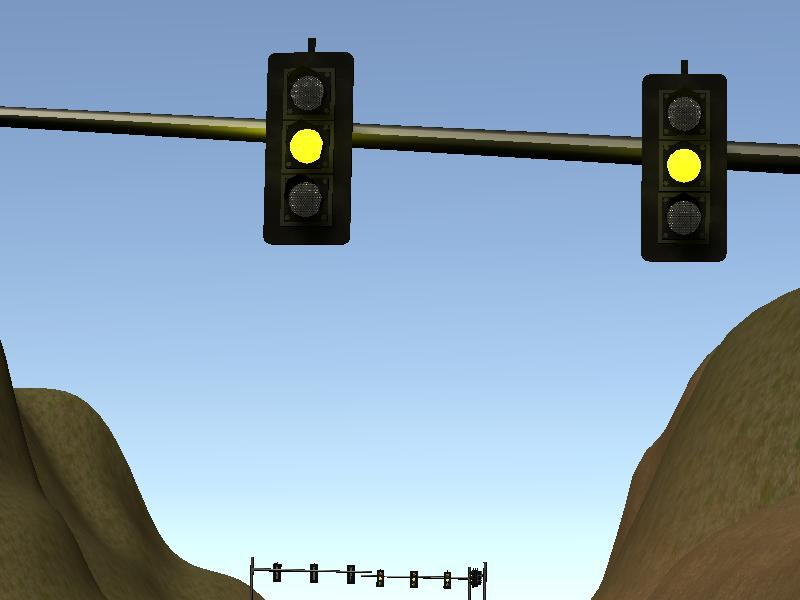Yellow: (261, 49, 354, 246), (639, 72, 728, 262)
